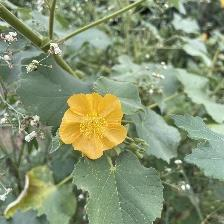indian mallow: (58, 92, 131, 162)
